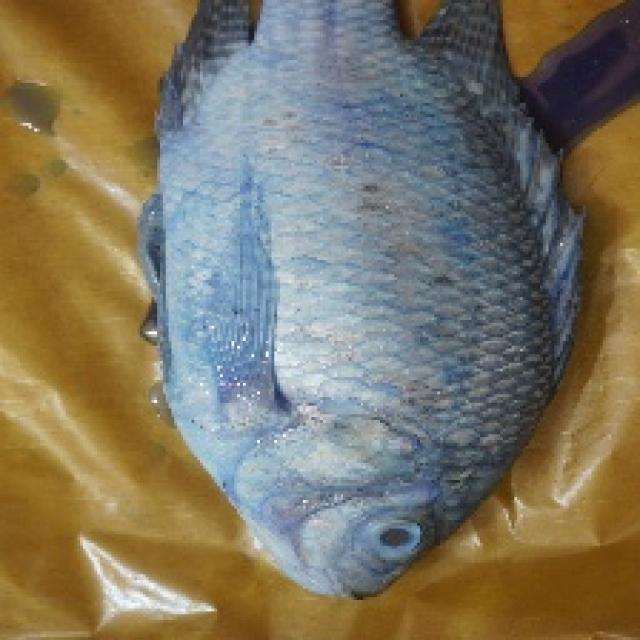Non-Fresh: (148, 41, 590, 628), (347, 490, 440, 586)
